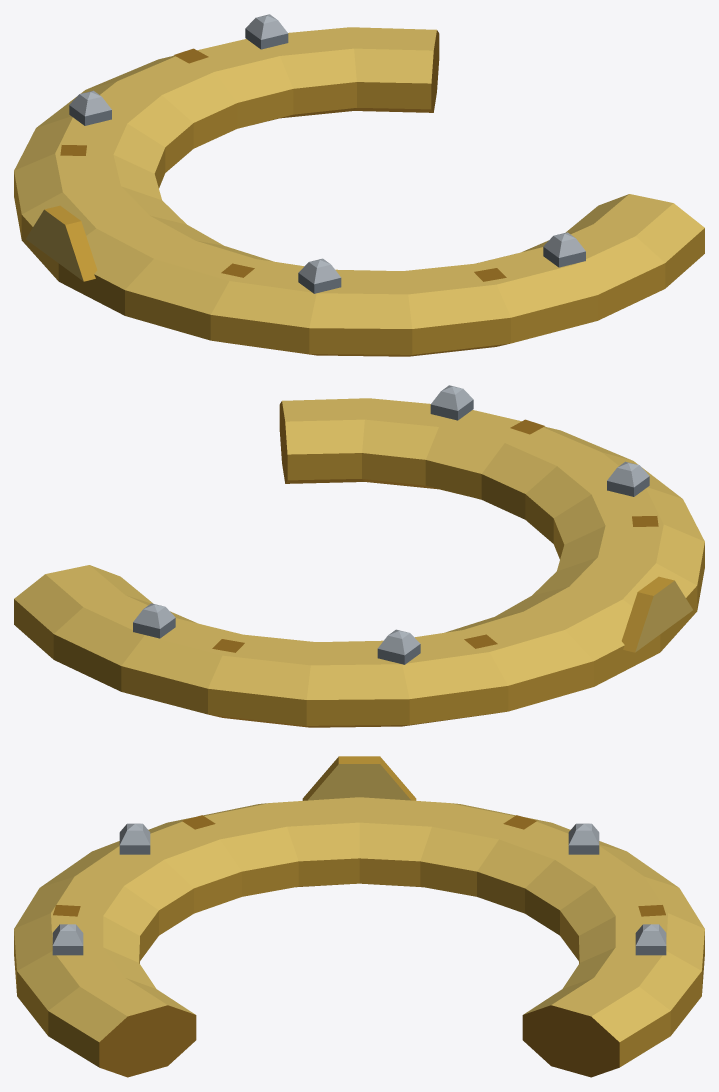
Rendered from treasure_horseshoe.glb.
3 renders of one model, top to bottom at view 1: azimuth 30°, elevation 25°; view 2: azimuth 150°, elevation 25°; view 3: azimuth 270°, elevation 25°, orthographic. The views are drawn at different scales.
Visible parts, largest first — view 1: treasure_horseshoe; view 2: treasure_horseshoe; view 3: treasure_horseshoe.
Boxes of the visible parts, bbox=[...] form: treasure_horseshoe: bbox=[14, 14, 704, 356]; treasure_horseshoe: bbox=[14, 385, 704, 727]; treasure_horseshoe: bbox=[14, 756, 704, 1077].
Size of the model in its own units: 0.1129 by 0.0184 by 0.1334.
